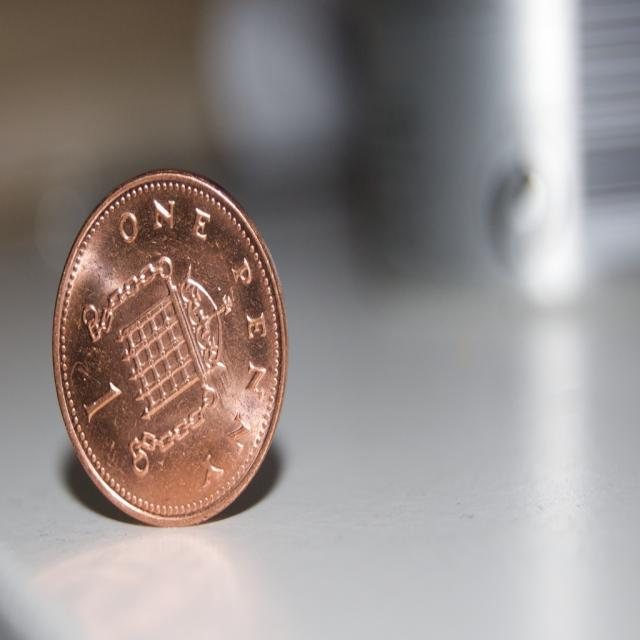Coin: (52, 166, 288, 525)
